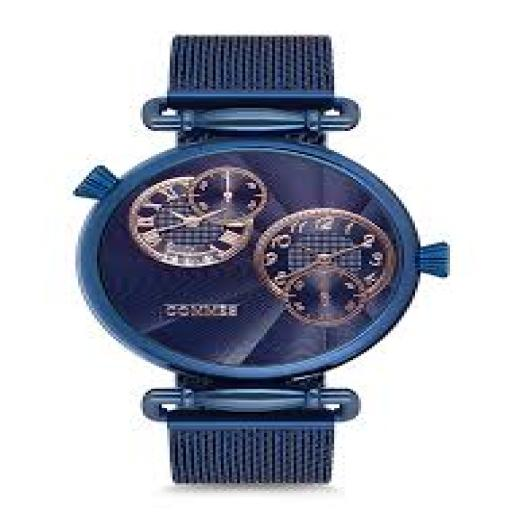KolSaati: (26, 13, 448, 470)
